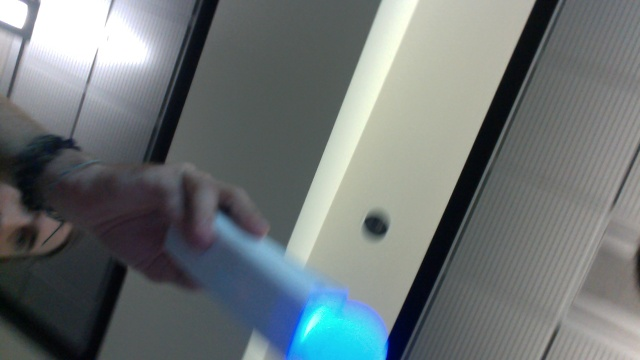wand: (297, 303, 389, 360)
